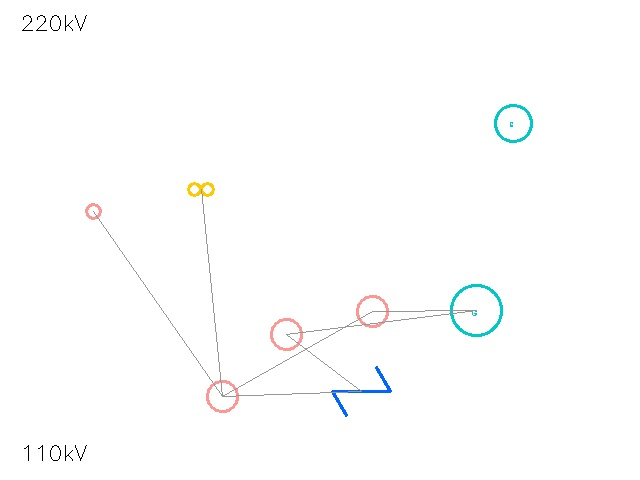circuit_breaker: (333, 363, 389, 419)
current_transformer: (341, 280, 403, 342)
generator: (451, 285, 501, 335), (495, 105, 531, 141)
load_break_switch: (192, 366, 252, 426)
reactor: (255, 303, 317, 365)
transformer_2w: (184, 172, 218, 206)
voltage_transformer: (78, 196, 108, 226)
